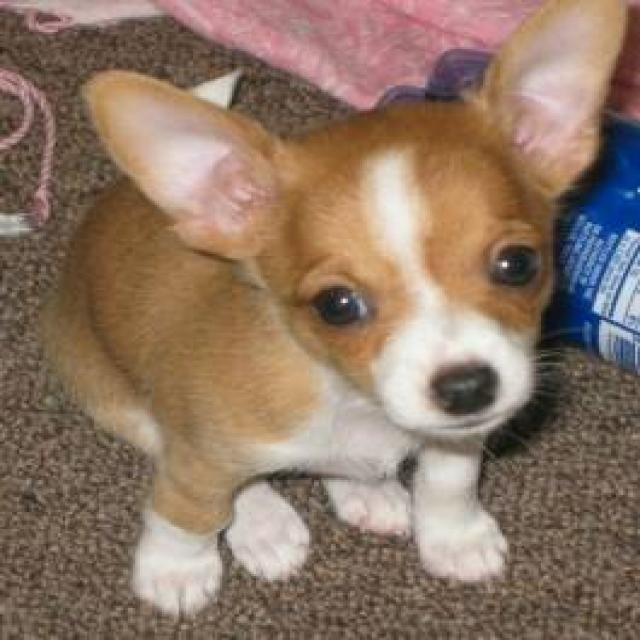dog-chihuahua: (29, 2, 635, 627)
